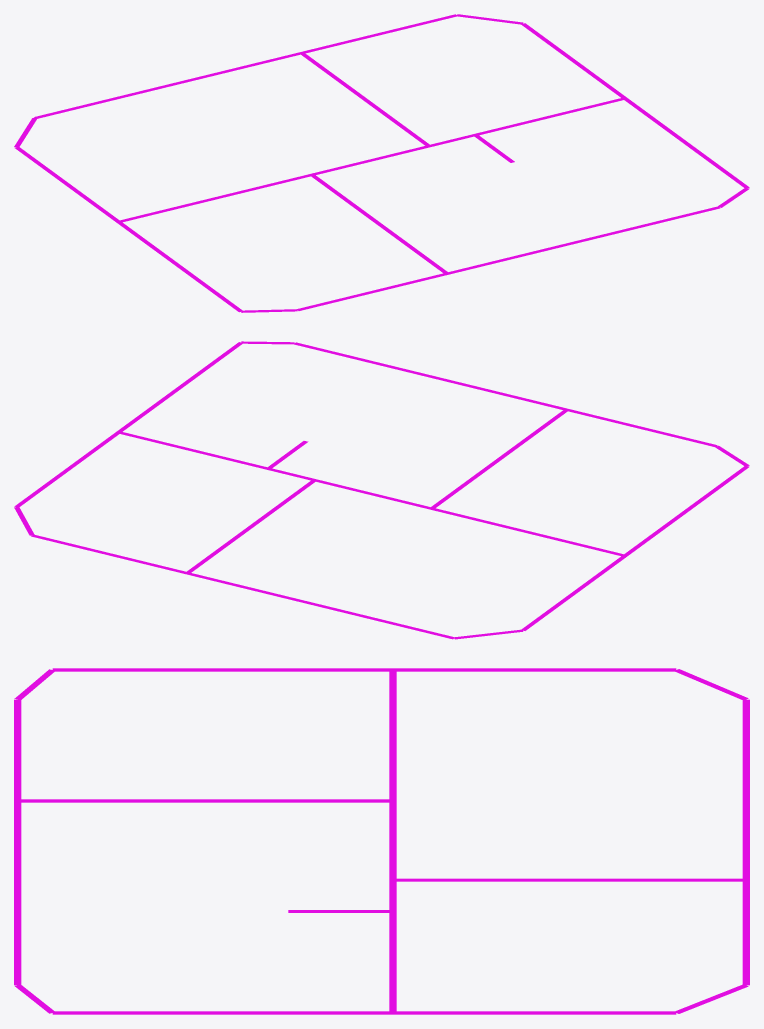
File: flat_magenta_runtime_visual_frame_route_overlay.dae
3 renders of one model, top to bottom at view 1: azimuth 30°, elevation 25°; view 2: azimuth 150°, elevation 25°; view 3: azimuth 270°, elevation 25°, orthographic. The views are drawn at different scales.
Parts seen in each view (by area): view 1: route_preview_node; view 2: route_preview_node; view 3: route_preview_node.
Boxes of the visible parts, left/top/right/bottom form: route_preview_node: left=14, top=14, right=749, bottom=312; route_preview_node: left=14, top=341, right=749, bottom=639; route_preview_node: left=14, top=668, right=749, bottom=1014.
Size of the model in its own units: 4.4 by 3.95 by 0.
